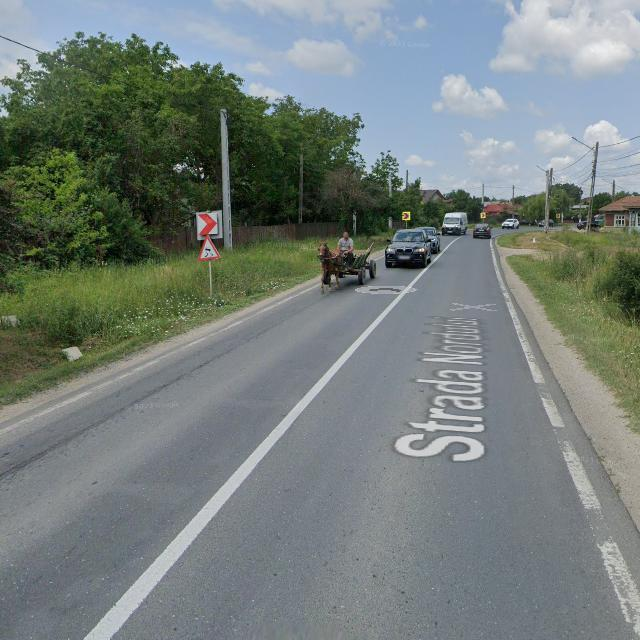warn_slippery_road: (197, 236, 221, 260)
